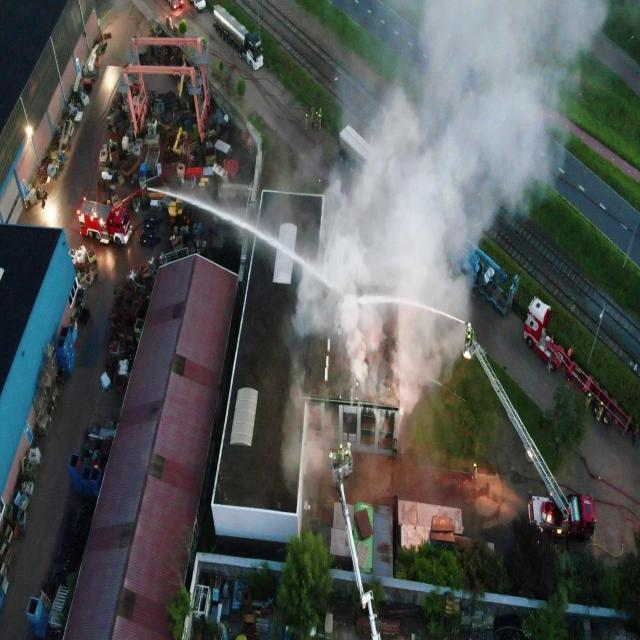Smoke: (290, 0, 612, 446), (281, 353, 337, 498)
